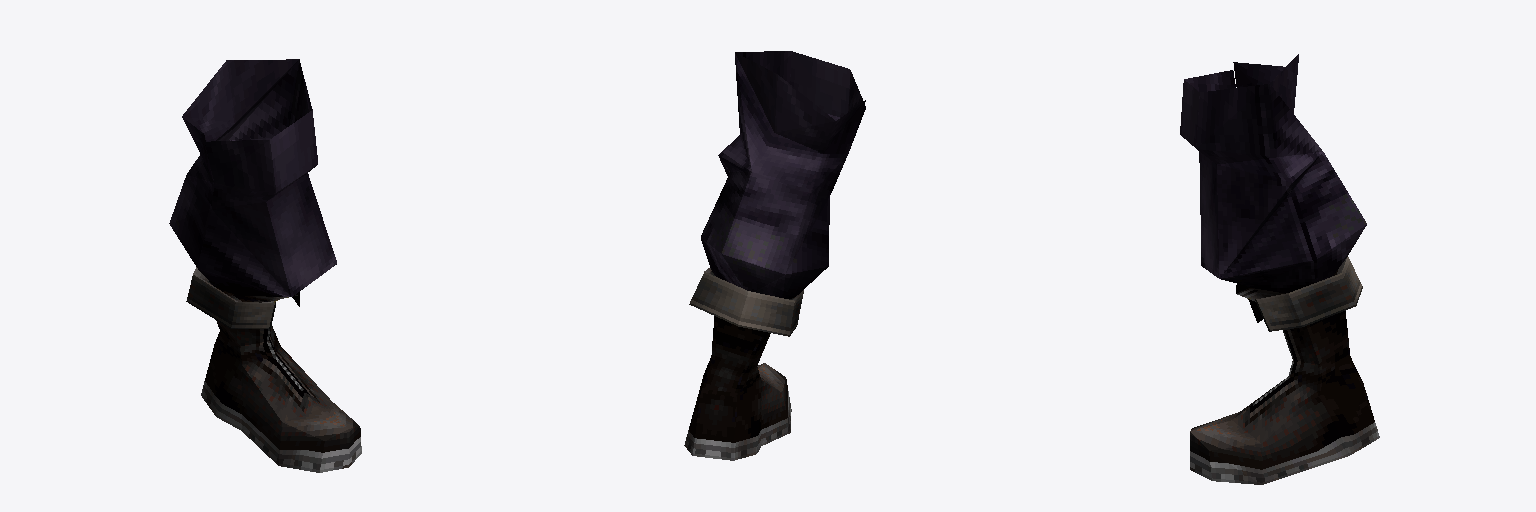
3 renders of one model, left to right at view 1: azimuth 30°, elevation 25°; view 2: azimuth 150°, elevation 25°; view 3: azimuth 270°, elevation 25°, orthographic.
Parts seen in each view (by area): view 1: 0001_r_sym307, 0002_r_sym307; view 2: 0001_r_sym307, 0002_r_sym307; view 3: 0001_r_sym307, 0002_r_sym307.
Part boxes in pixels (x1,y1,x2,y2): 0001_r_sym307: (169, 59, 361, 472); 0002_r_sym307: (186, 275, 275, 328); 0001_r_sym307: (684, 51, 865, 460); 0002_r_sym307: (689, 272, 803, 336); 0001_r_sym307: (1180, 54, 1379, 484); 0002_r_sym307: (1255, 257, 1362, 331).
Size of the model in its own units: 0.1777 by 0.4382 by 0.2055.
Materials: 2 (2 with a texture image).